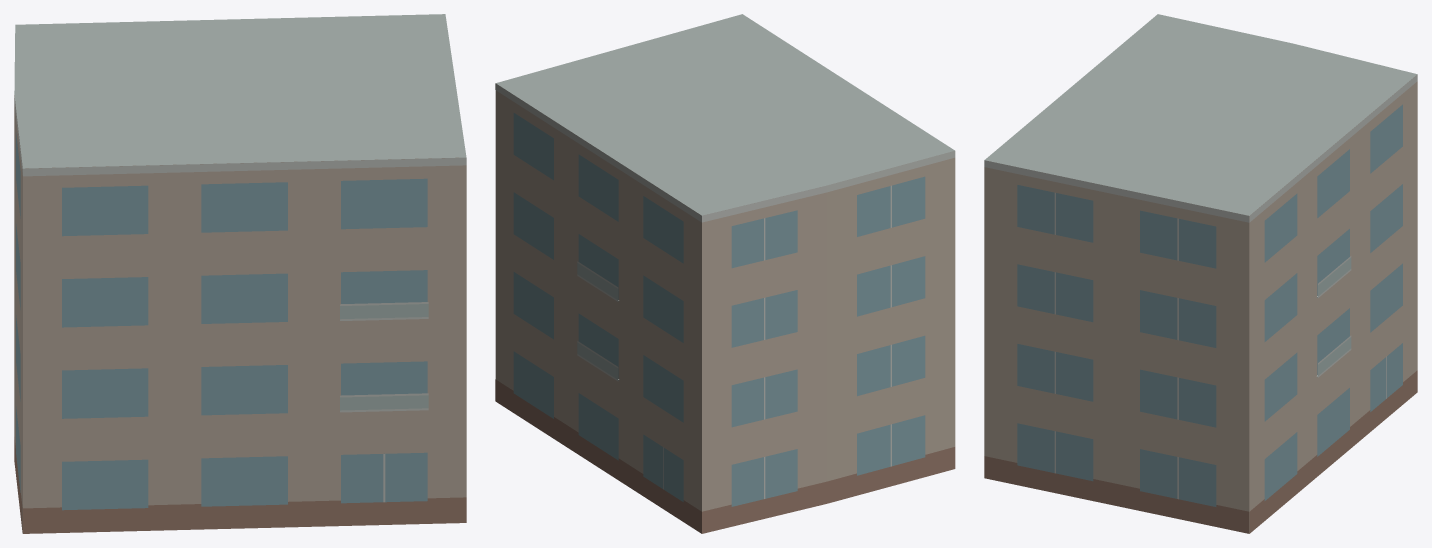
The model's file is survey-upis-32744022.glb.
3 renders of one model, left to right at view 1: azimuth 30°, elevation 25°; view 2: azimuth 150°, elevation 25°; view 3: azimuth 270°, elevation 25°, orthographic. The views are drawn at different scales.
Parts seen in each view (by area): view 1: survey-upis-32744022.tmp; view 2: survey-upis-32744022.tmp; view 3: survey-upis-32744022.tmp.
Part boxes in pixels (left/top/right/bottom): survey-upis-32744022.tmp: left=14, top=14, right=466, bottom=533; survey-upis-32744022.tmp: left=495, top=14, right=955, bottom=533; survey-upis-32744022.tmp: left=984, top=14, right=1417, bottom=533.
Bounding box in the file's own units: 15.39 × 11.3 × 13.96.
